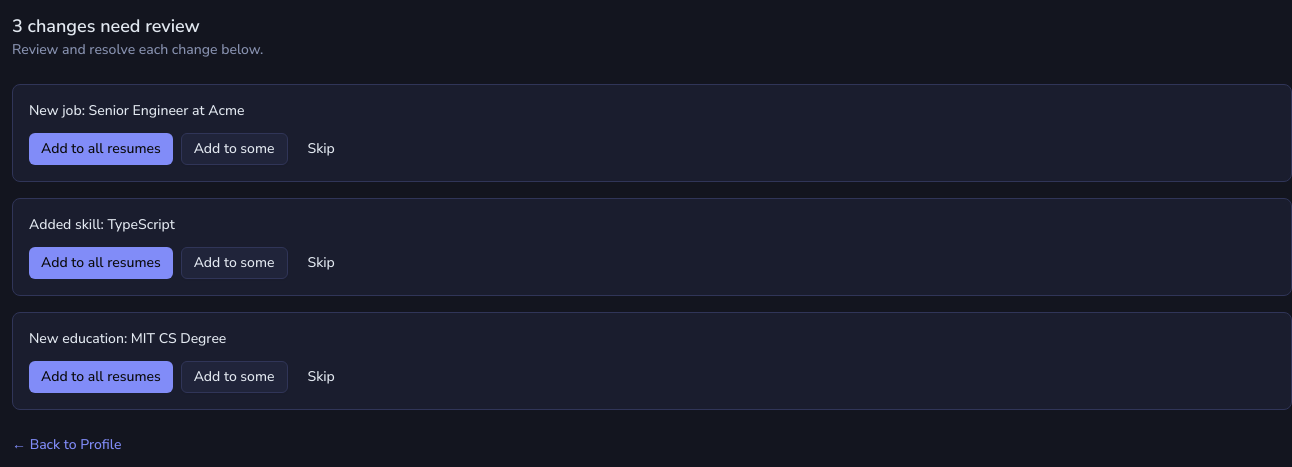
ChangeFlagsResolver › resolution — add to all › removes resolved flag from list after invalidation
This screenshot has width=1292, height=467.
Expected: the element with test id "flag-1" is shown, [12, 84, 1291, 182]
Step 1. Click the button with test id "add-all-1" → (101,149), box [29, 133, 173, 165]
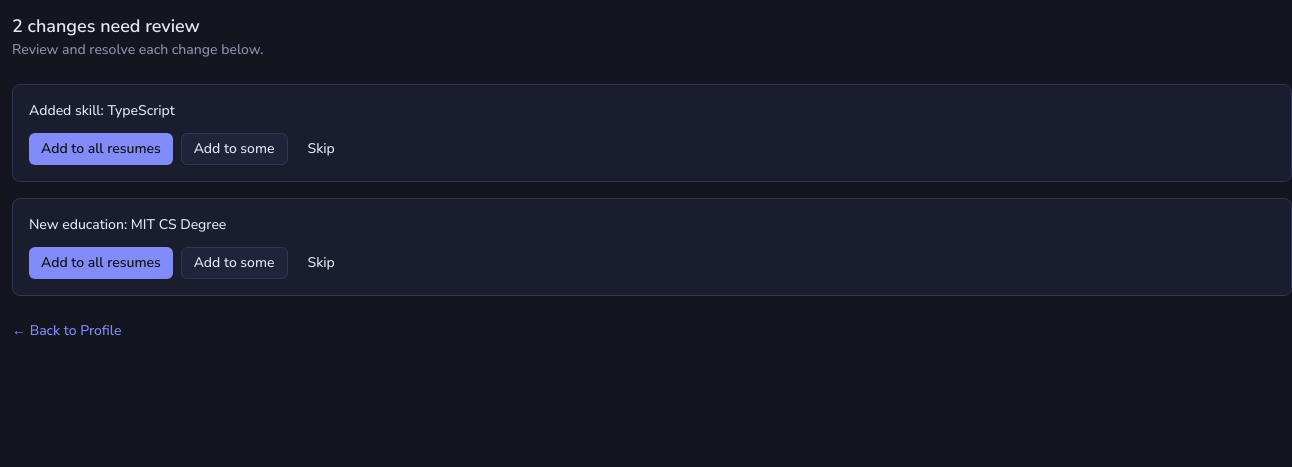
Expected: the element with test id "flag-1" is gone
